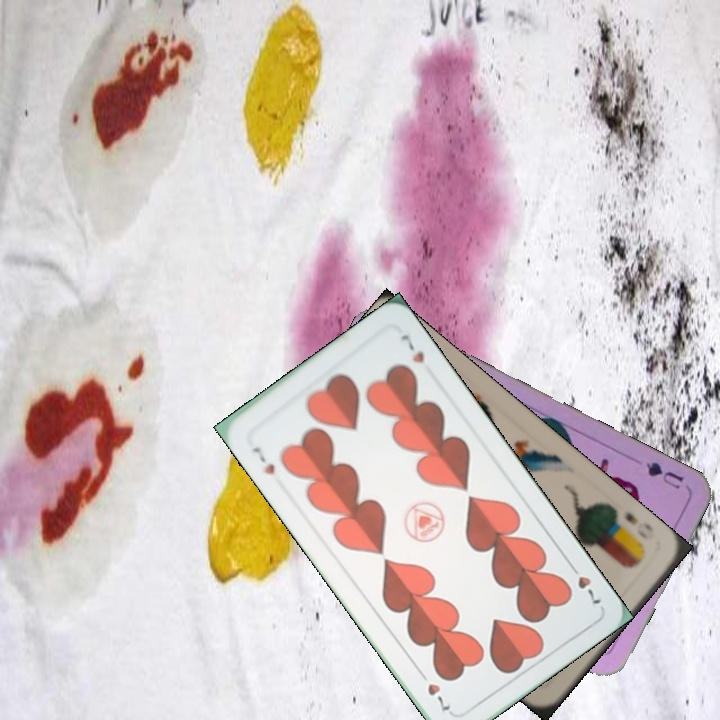EO: (620, 507, 657, 543)
GU: (642, 457, 686, 492)
H7: (564, 558, 605, 607), (248, 442, 278, 477)
